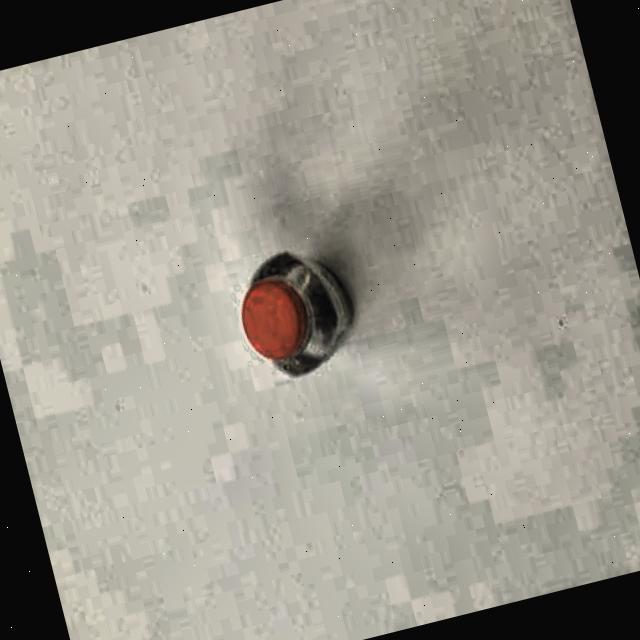plastic: (226, 237, 371, 390)
